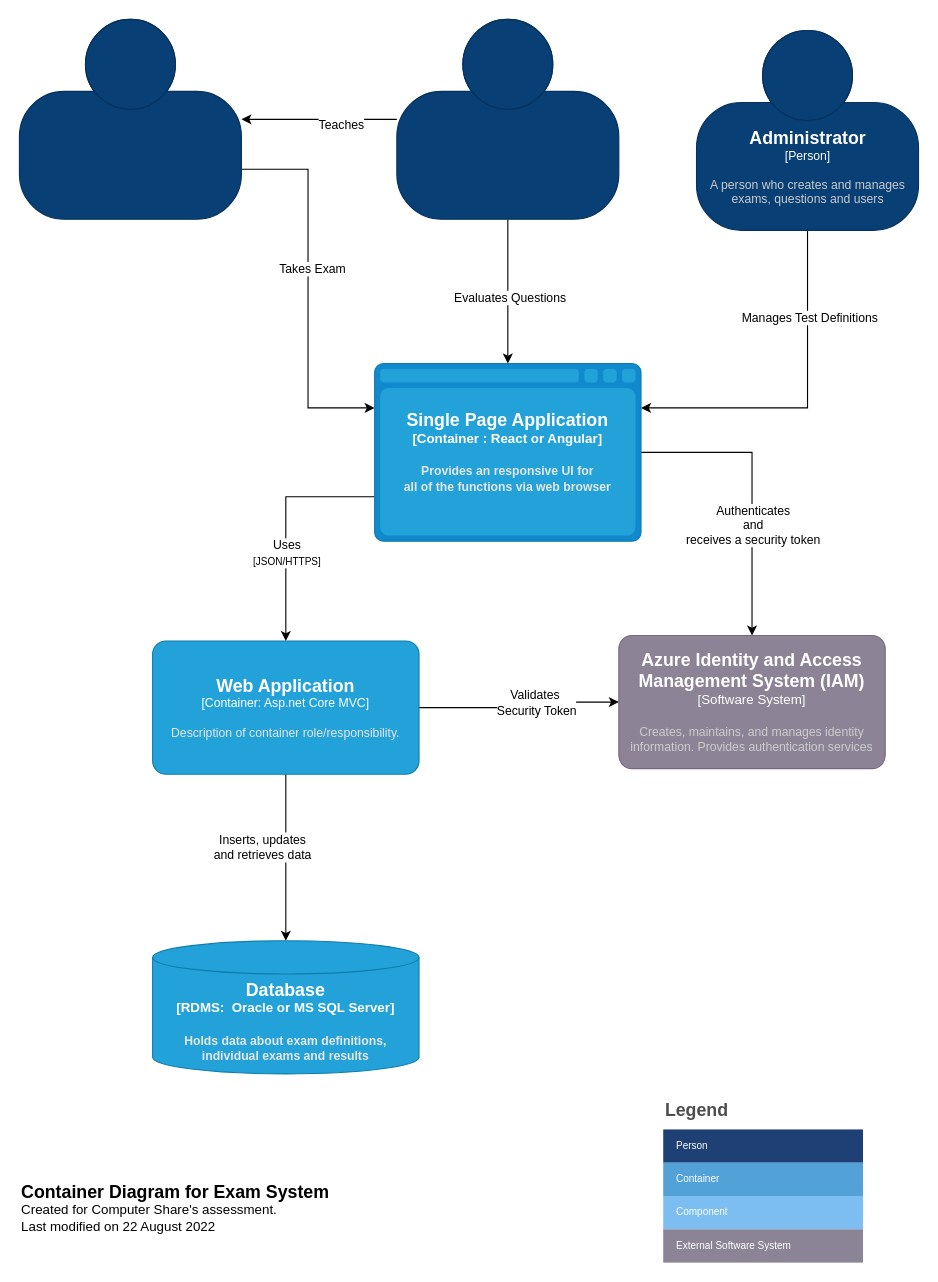
The diagram is 938 pixels wide and 1282 high, and some of its shapes have lost their labels. Each missing label, with the centre of its shape:
"Student [Person] A person who takes exams" goes at pixel 129 118.
"Teacher [Person] A person who evaluates short answer questions and essays" goes at pixel 507 118.
